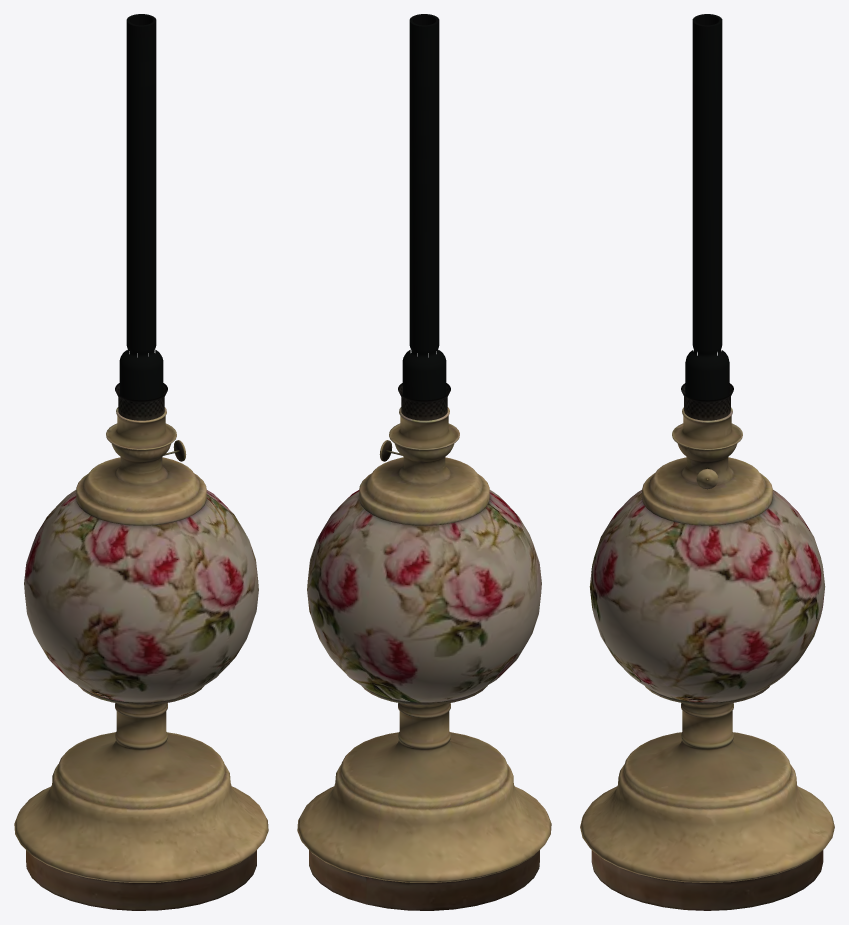
The model's file is vintage_oil_lamp.glb.
The picture shows the model from 3 angles, left to right: view 1: azimuth 30°, elevation 25°; view 2: azimuth 150°, elevation 25°; view 3: azimuth 270°, elevation 25°; orthographic projection.
Visible parts, largest first — view 1: vintage_oil_lamp, vintage_oil_lamp_glass; view 2: vintage_oil_lamp, vintage_oil_lamp_glass; view 3: vintage_oil_lamp, vintage_oil_lamp_glass.
Part boxes in pixels (<box>): vintage_oil_lamp: <box>14,407,268,910</box>; vintage_oil_lamp_glass: <box>115,14,167,420</box>; vintage_oil_lamp: <box>297,407,551,910</box>; vintage_oil_lamp_glass: <box>398,14,450,420</box>; vintage_oil_lamp: <box>580,407,834,910</box>; vintage_oil_lamp_glass: <box>681,14,733,420</box>.
Bounding box in the file's own units: 0.22 × 0.8016 × 0.22.
3 materials, 3 textured.
